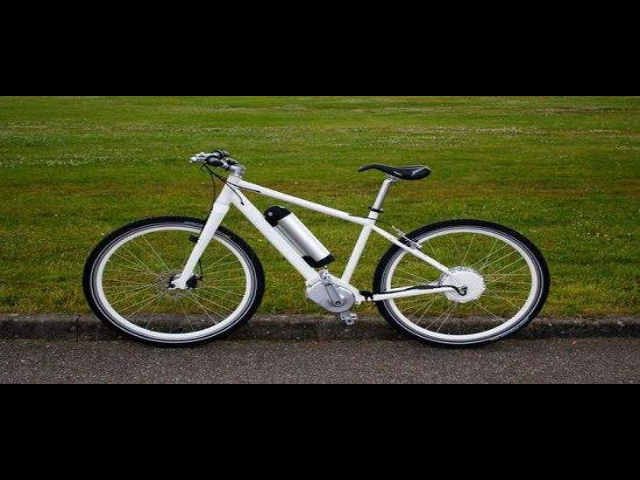bike: (78, 143, 557, 362)
